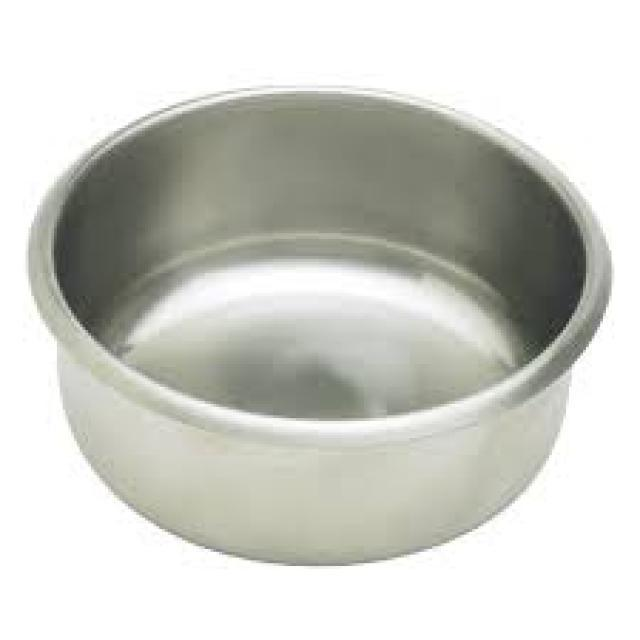Sponge Bowl: (19, 69, 596, 561)
